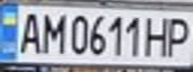0: (66, 11, 90, 55)
1: (121, 14, 145, 57), (106, 12, 127, 56)
6: (87, 11, 109, 56)
A: (15, 9, 45, 54)
H: (142, 12, 175, 59)
M: (36, 9, 66, 54)
P: (163, 14, 193, 58)
